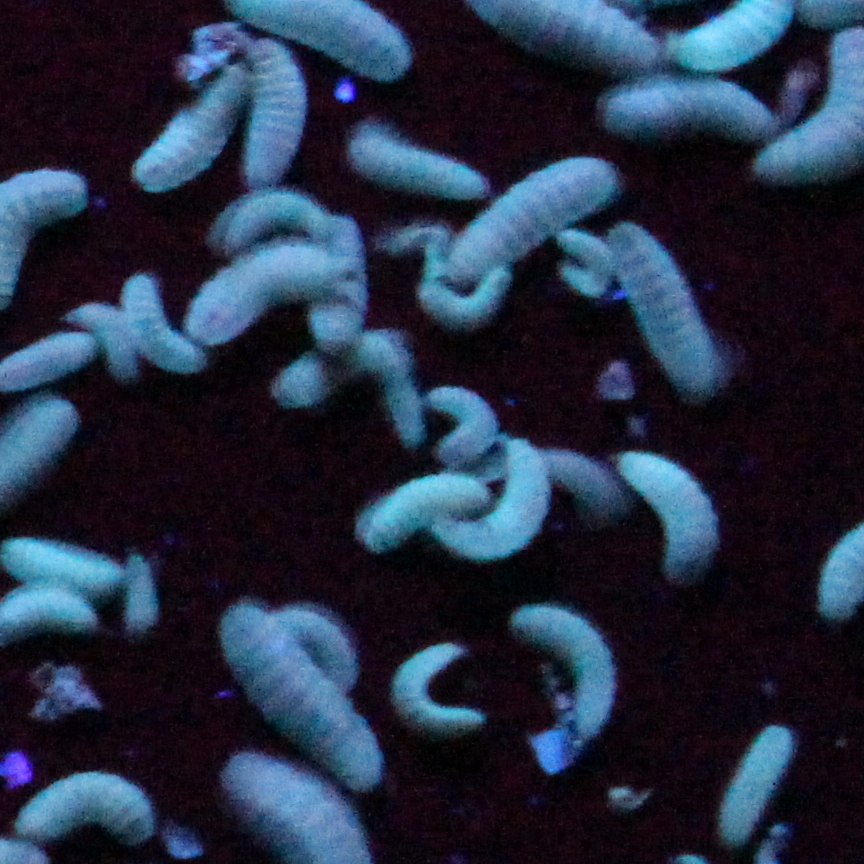larve: (236, 606, 380, 769), (624, 225, 726, 377), (460, 167, 609, 269), (536, 596, 624, 750), (624, 445, 721, 579), (146, 77, 231, 189), (197, 257, 343, 321), (460, 450, 548, 552), (375, 128, 487, 208), (390, 633, 485, 725), (717, 728, 796, 833), (26, 762, 151, 828), (365, 321, 421, 450), (620, 79, 759, 126), (251, 62, 299, 184), (226, 186, 324, 242), (558, 438, 624, 521), (368, 489, 465, 542), (290, 323, 348, 403), (433, 382, 499, 450), (141, 289, 202, 362), (429, 272, 516, 318), (90, 313, 148, 379), (11, 545, 114, 582), (299, 601, 348, 677), (131, 567, 168, 635), (575, 235, 607, 301)
